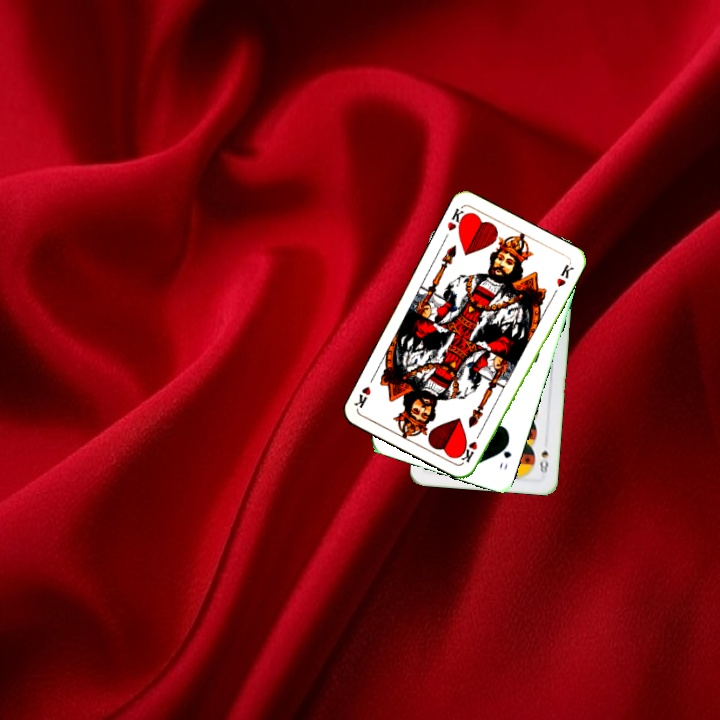GO: (495, 436, 514, 472)
HK: (457, 427, 484, 466), (443, 204, 471, 234)
S8: (535, 446, 551, 479)
